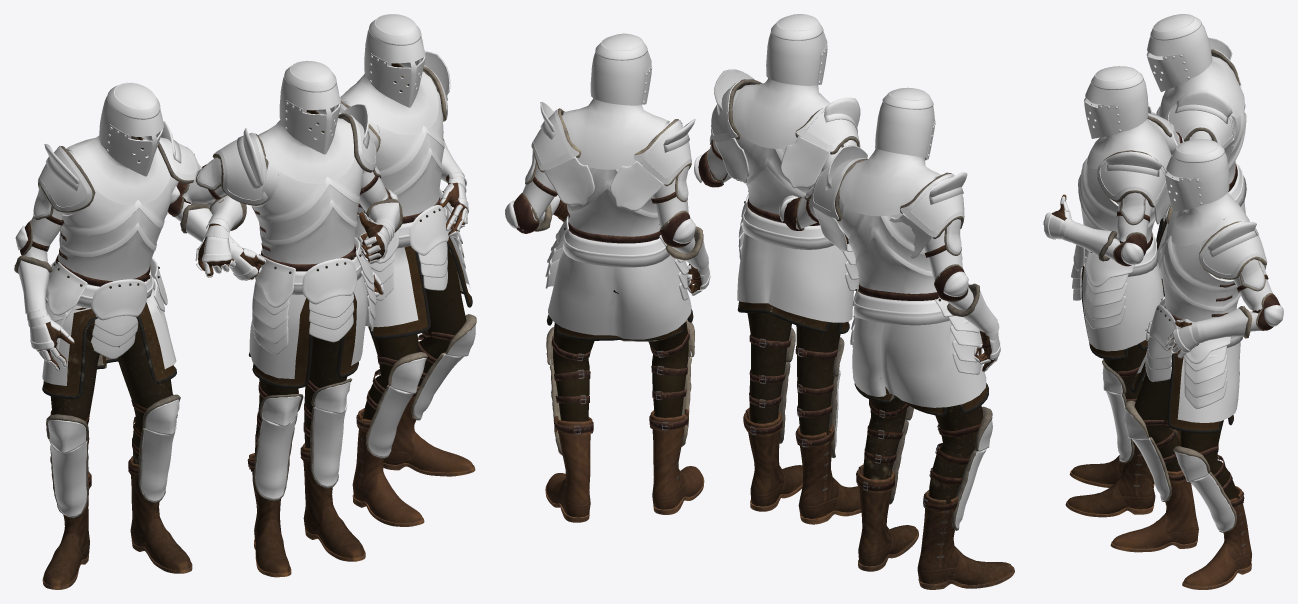
The model's file is SoiKnightA.fbx.
The picture shows the model from 3 angles, left to right: view 1: azimuth 30°, elevation 25°; view 2: azimuth 150°, elevation 25°; view 3: azimuth 270°, elevation 25°; orthographic projection. The views are drawn at different scales.
Visible parts, largest first — view 1: Soi_SimpleArmor.003, Soi_SimpleArmor.001, Soi_SimpleArmor.002; view 2: Soi_SimpleArmor.001, Soi_SimpleArmor.002, Soi_SimpleArmor.003; view 3: Soi_SimpleArmor.002, Soi_SimpleArmor.003, Soi_SimpleArmor.001.
Boxes of the visible parts, x1,y1,x2,y2 form: Soi_SimpleArmor.003: (168, 60, 402, 577); Soi_SimpleArmor.001: (14, 82, 246, 589); Soi_SimpleArmor.002: (339, 14, 476, 526); Soi_SimpleArmor.001: (779, 87, 1014, 589); Soi_SimpleArmor.002: (505, 33, 710, 522); Soi_SimpleArmor.003: (694, 14, 861, 524); Soi_SimpleArmor.002: (1110, 139, 1283, 589); Soi_SimpleArmor.003: (1043, 66, 1184, 517); Soi_SimpleArmor.001: (1146, 14, 1246, 443).
Bounding box in the file's own units: 182 × 188 × 94.53.
